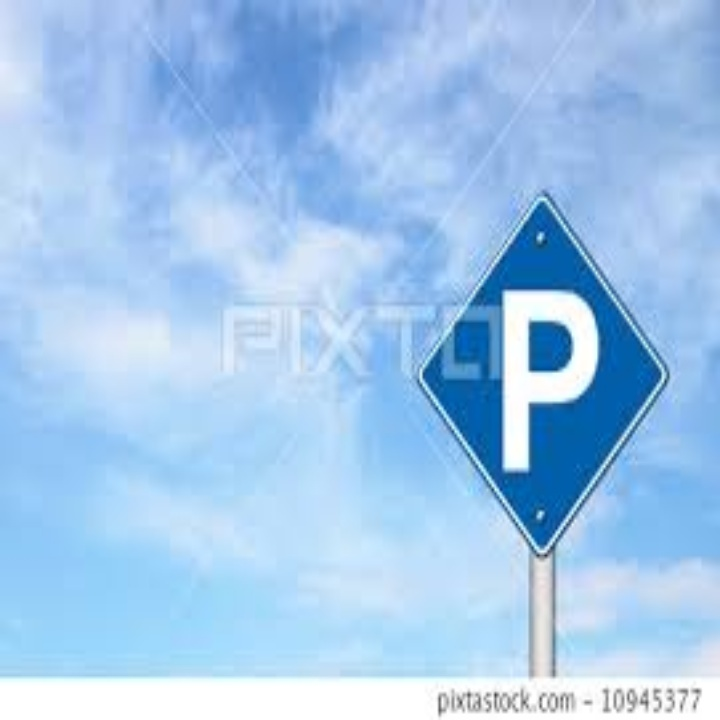parking: (493, 280, 601, 483)
